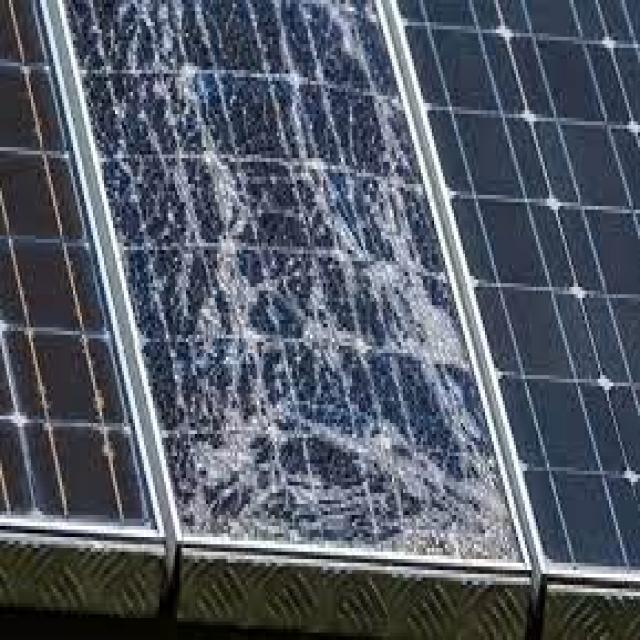faulty: (63, 3, 523, 563), (0, 10, 150, 520)
no faulty: (401, 0, 639, 553)
